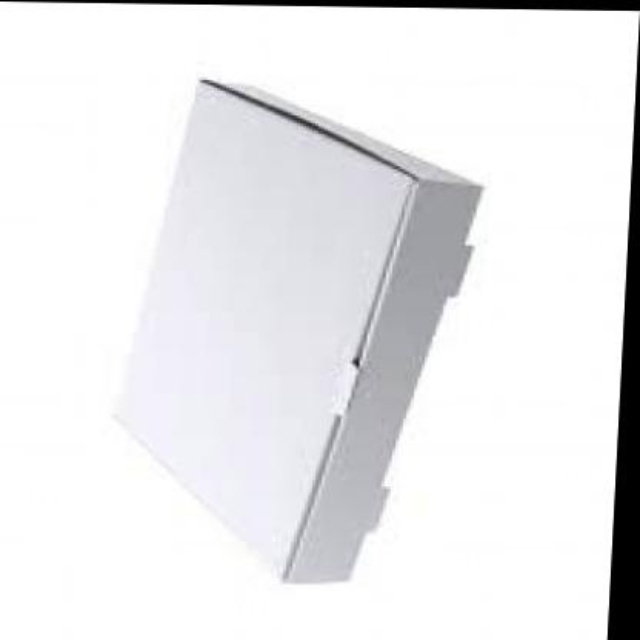trash: (125, 80, 480, 582)
